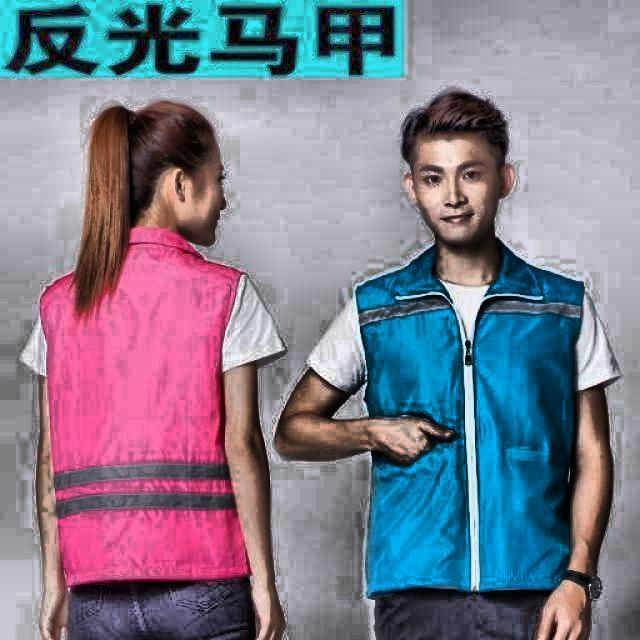safety_jacket: (347, 238, 603, 592), (38, 228, 260, 584)
